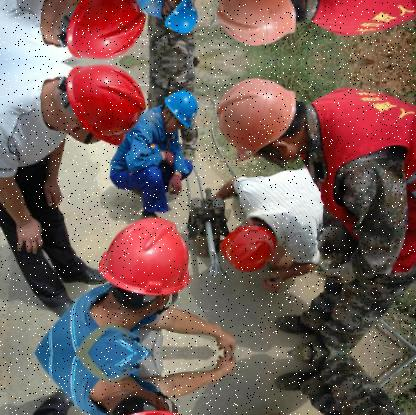helmet: (92, 208, 203, 322), (212, 71, 313, 167), (61, 65, 153, 142), (60, 0, 153, 58), (212, 0, 314, 52), (221, 213, 281, 272), (92, 382, 204, 413), (161, 85, 203, 136), (160, 0, 203, 38)
